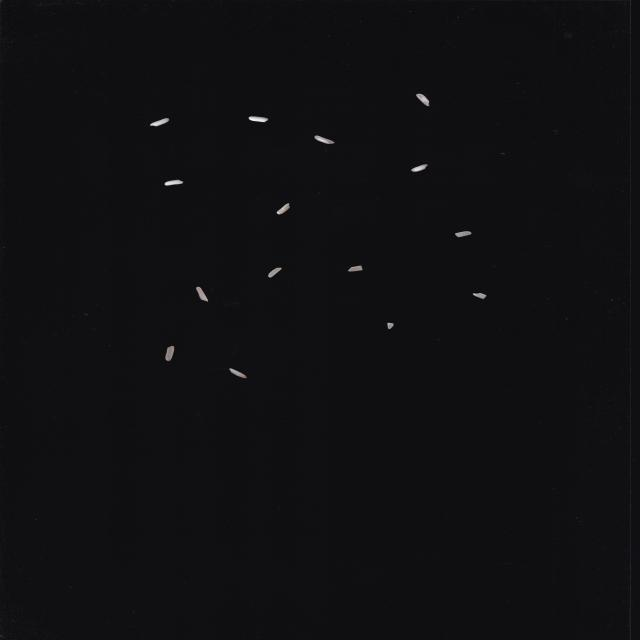Chalky: (314, 136, 335, 144), (416, 94, 430, 106), (411, 164, 428, 172)
Not: (229, 368, 247, 379), (196, 286, 208, 302), (150, 118, 170, 127), (164, 346, 174, 362), (276, 203, 290, 214), (268, 267, 282, 278), (248, 116, 269, 123), (164, 179, 184, 186), (455, 231, 472, 238), (347, 265, 363, 272), (472, 293, 487, 299), (387, 322, 394, 330)
